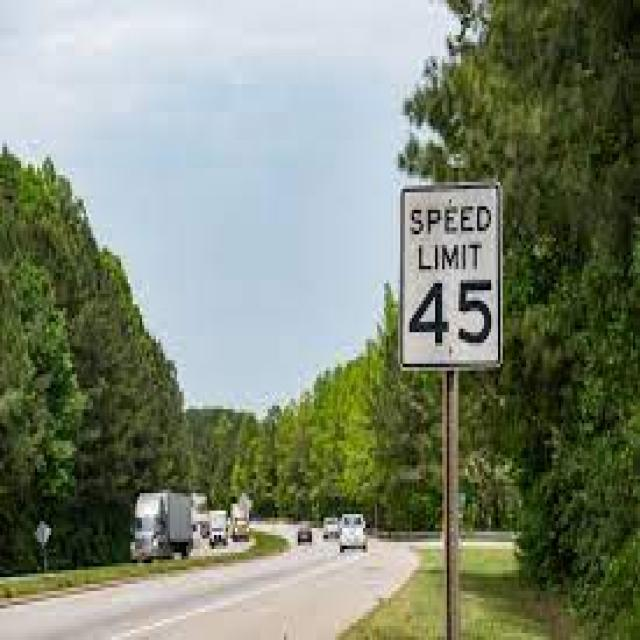Speed Limit Signs: (396, 178, 505, 374)
